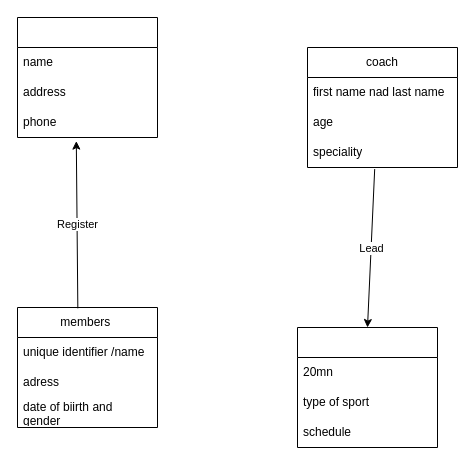
Some shapes in this 475 by 465 pixel diagram are drawn without their labels. The box of each missing label's shape, as (x1, y1, x2, y2) in pixels:
gymnasiums: (16, 16, 158, 138)
session: (296, 326, 438, 448)
